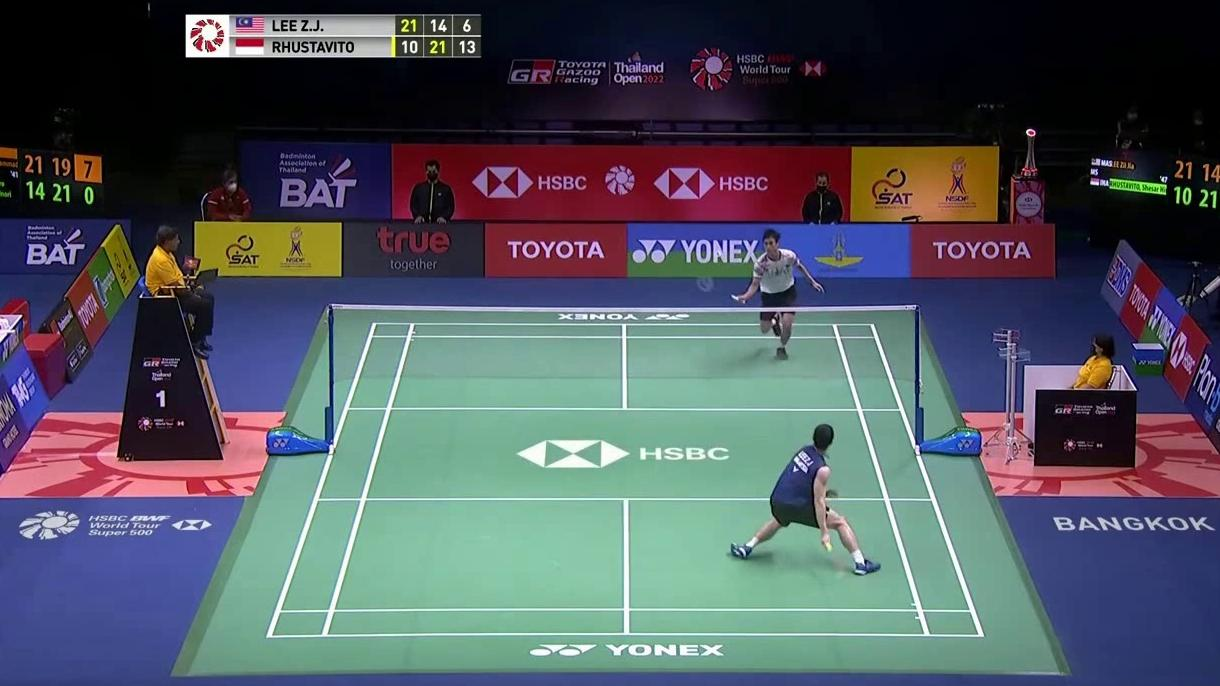racket: (819, 533, 856, 582), (694, 272, 747, 306)
shuttle: (714, 248, 722, 258)
